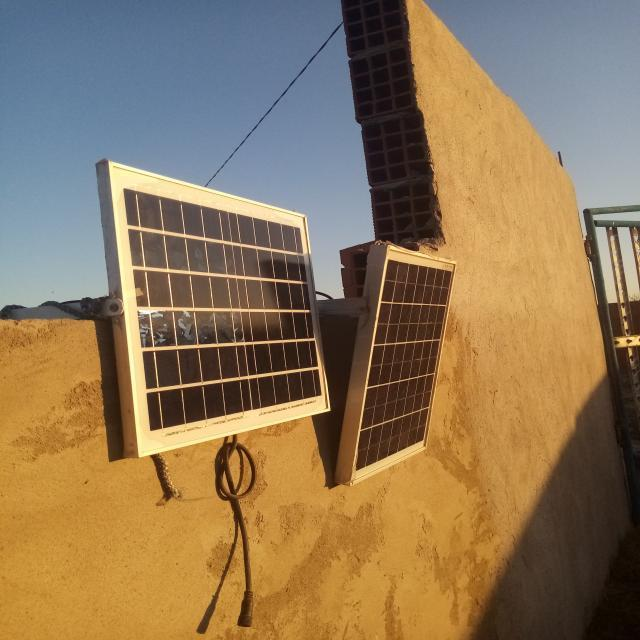no faulty: (354, 247, 456, 485)
